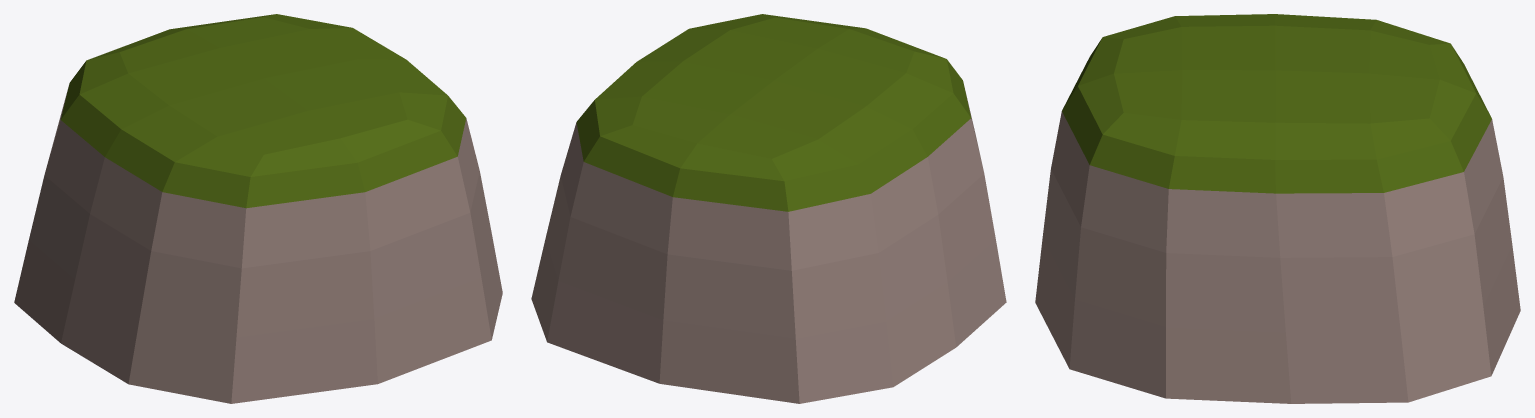
The model's file is Rock_24.fbx.
The picture shows the model from 3 angles, left to right: view 1: azimuth 30°, elevation 25°; view 2: azimuth 150°, elevation 25°; view 3: azimuth 270°, elevation 25°; orthographic projection. The views are drawn at different scales.
Visible parts, largest first — view 1: Rock_24; view 2: Rock_24; view 3: Rock_24.
Boxes of the visible parts, box(x1,y1,x2,y2) form: Rock_24: box(14, 14, 502, 403); Rock_24: box(531, 14, 1006, 403); Rock_24: box(1035, 14, 1520, 403).
Bounding box in the file's own units: 4.22 × 2.36 × 4.33.
